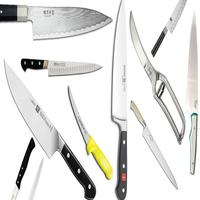knife: (1, 56, 93, 200), (129, 7, 181, 129), (129, 93, 180, 200), (111, 1, 133, 200), (1, 2, 112, 39), (183, 14, 200, 185), (16, 53, 105, 83), (149, 1, 188, 60)
